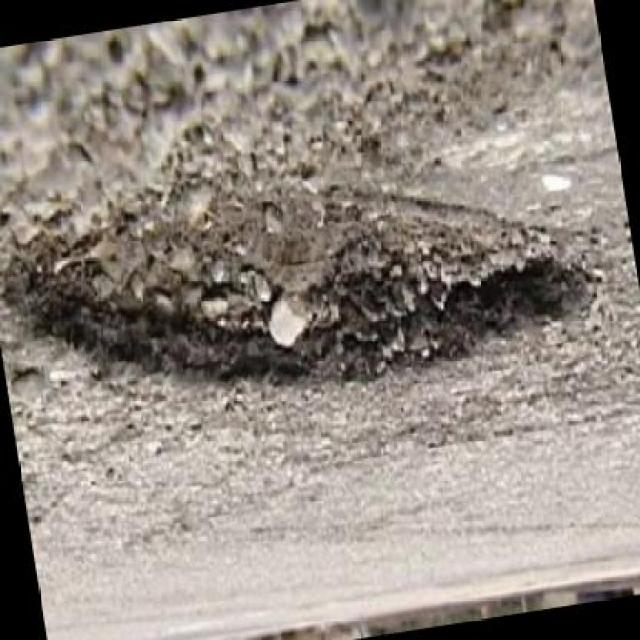pothole1: (0, 77, 605, 440)
